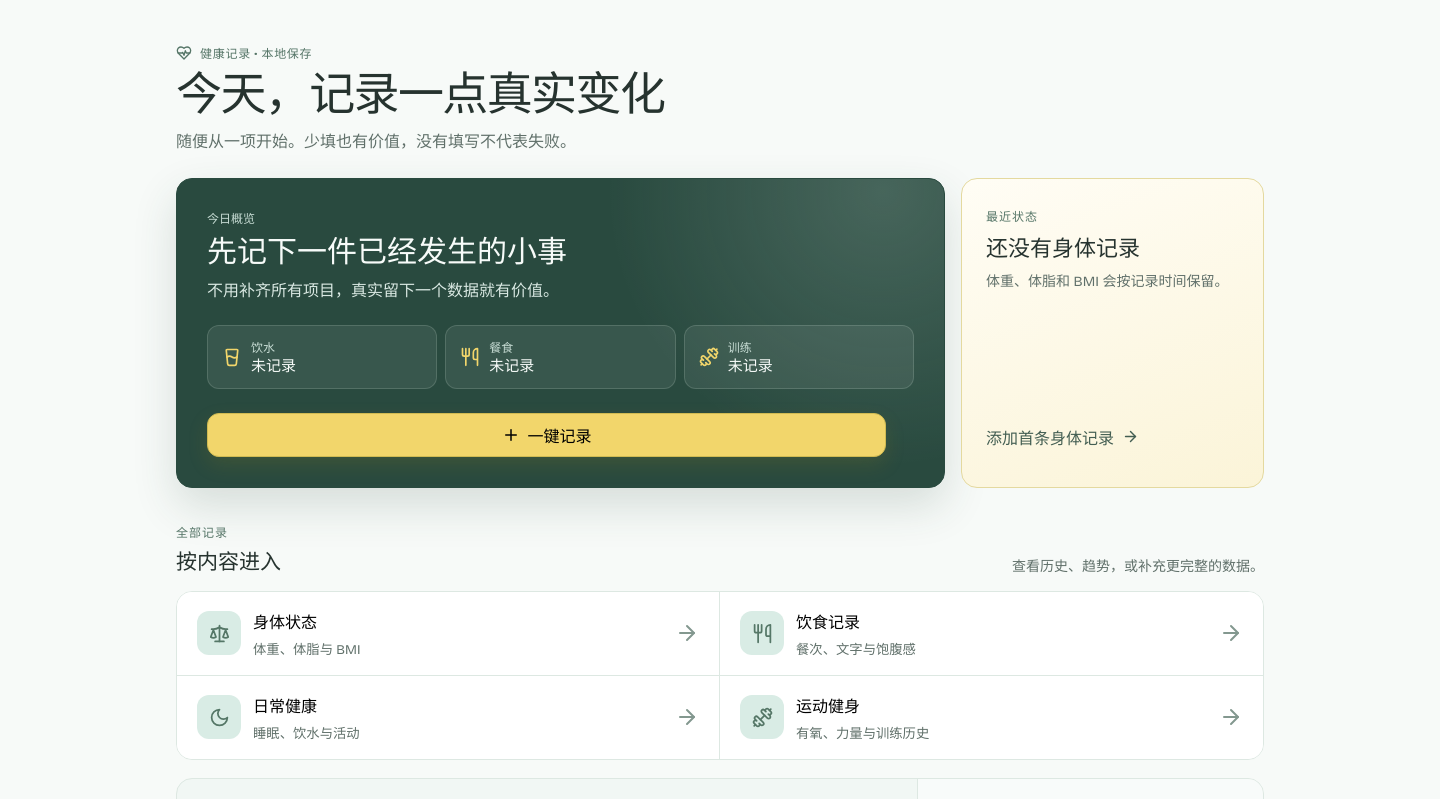
Test: health revision 2083 workspaces › adds a weighed public food from a meal-specific entry
Click the button "饮食记录 餐次、文字与饱腹感": x=762, y=633 top-left (720, 592), bottom-right (1263, 676)
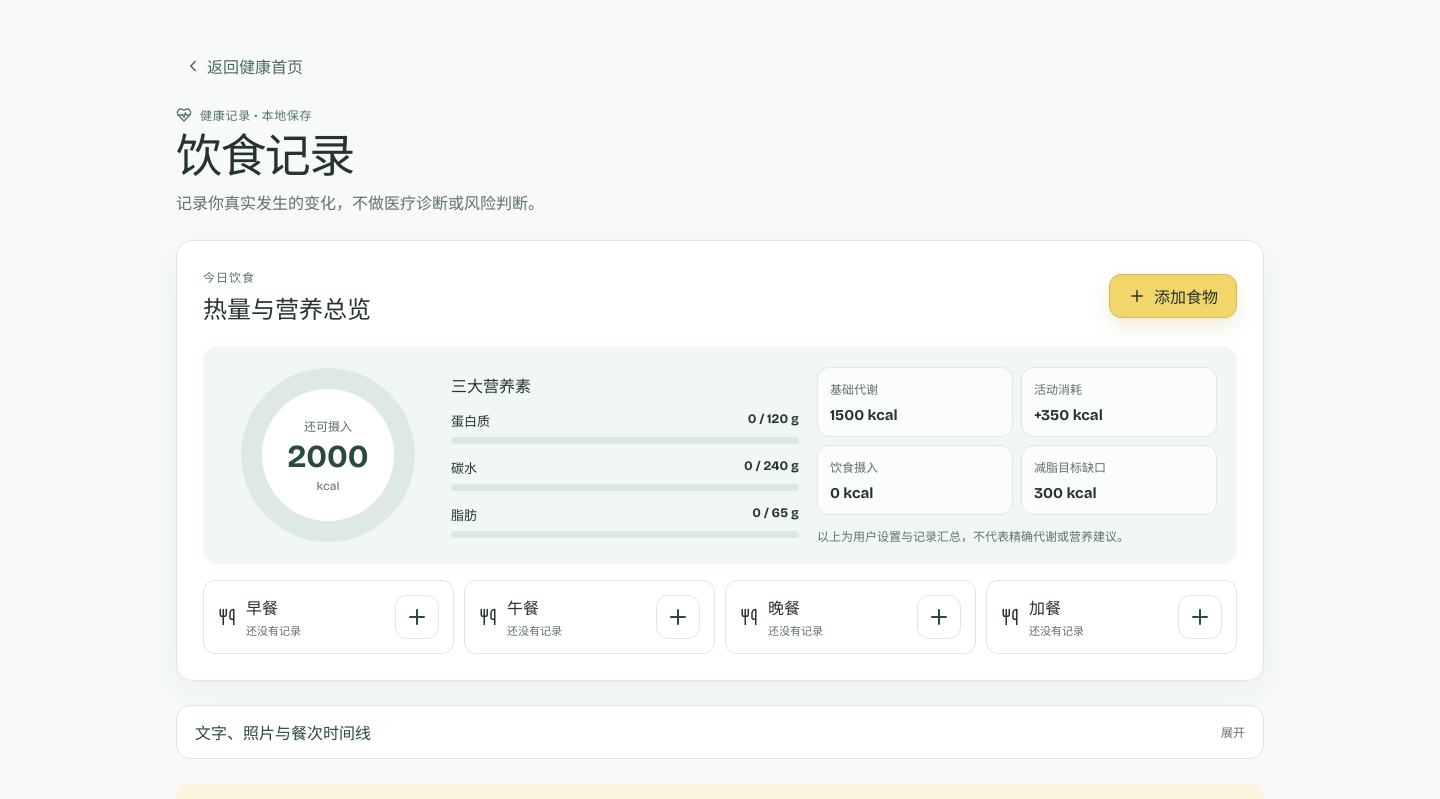
Expected: the text "还可摄入" is shown, top-left (304, 420), bottom-right (352, 434)
Click the button named "添加早餐": x=417, y=617 top-left (395, 595), bottom-right (439, 639)
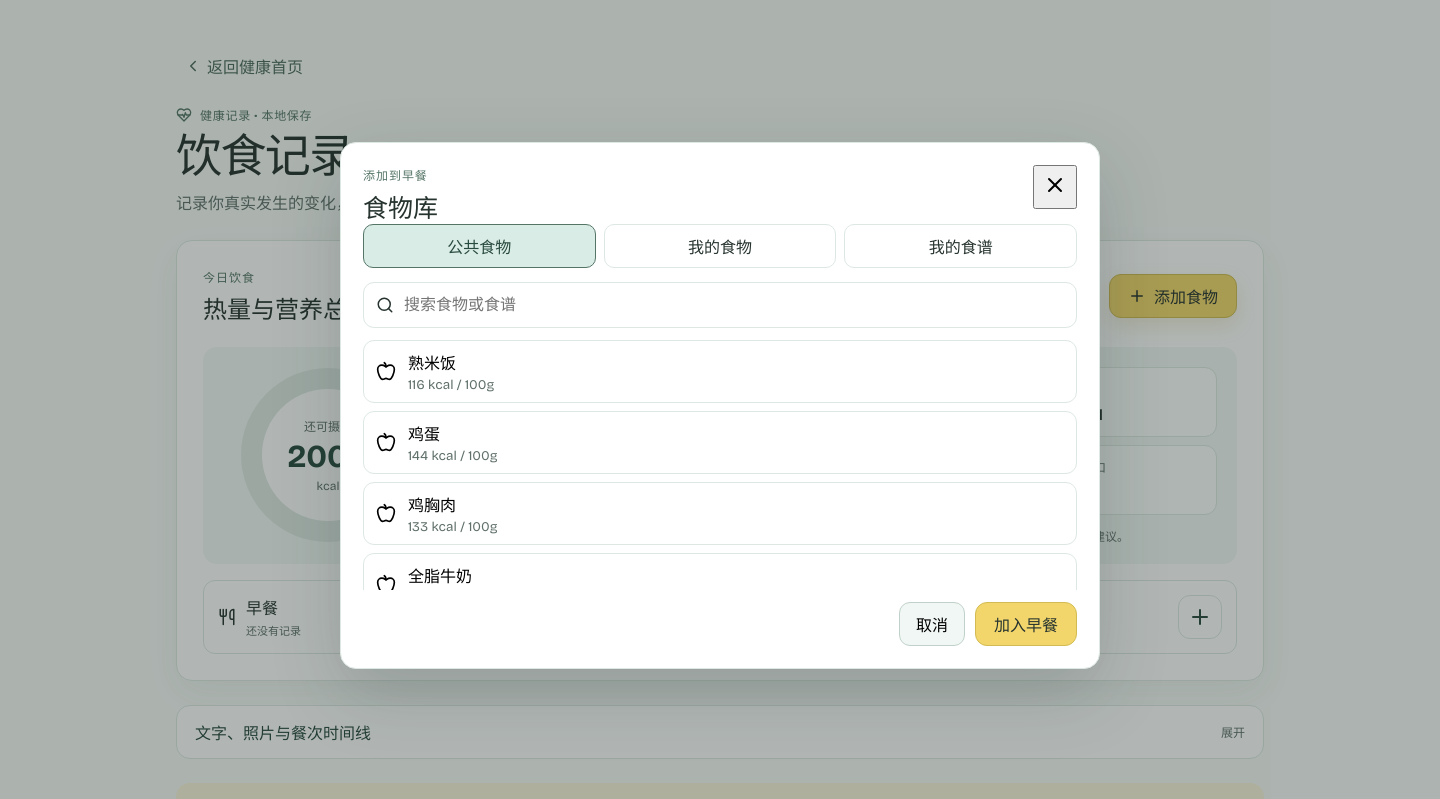
Click the button "熟米饭 116 kcal / 100g": x=432, y=363 top-left (363, 340), bottom-right (1077, 402)
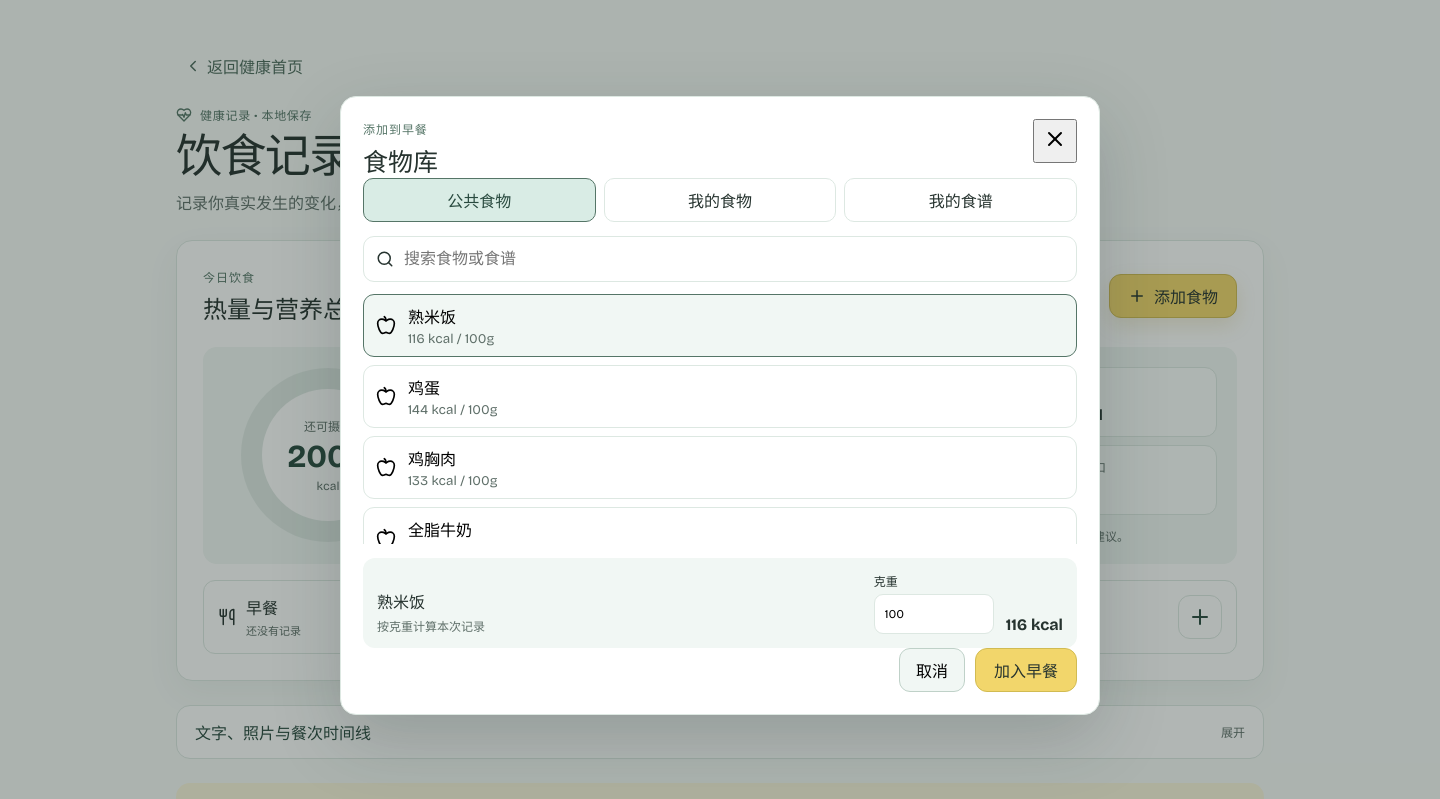
Replace the text in the number field labelled "克重" with "150": x=934, y=614 top-left (874, 594), bottom-right (994, 634)
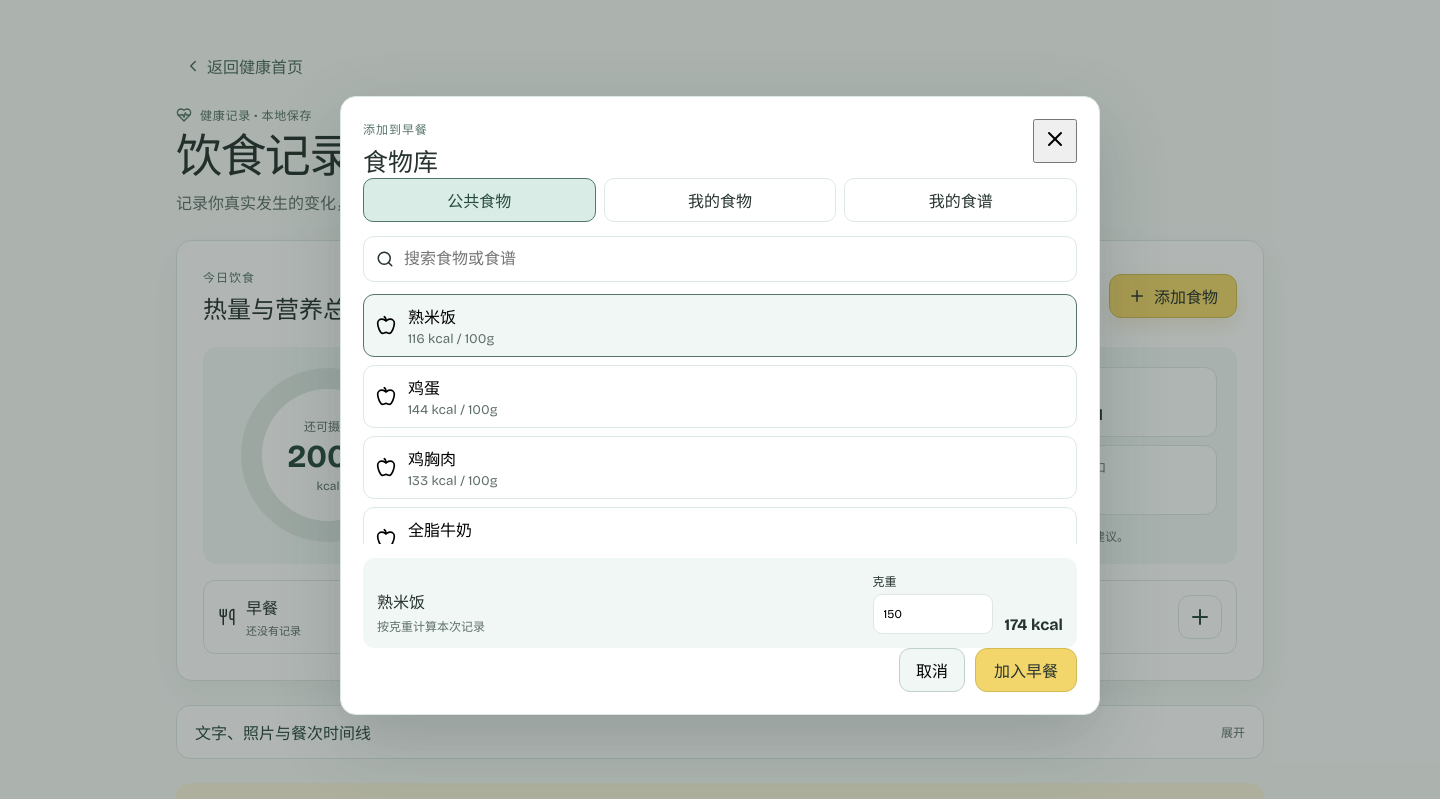
Click the button "加入早餐": x=1026, y=670 top-left (975, 648), bottom-right (1077, 692)
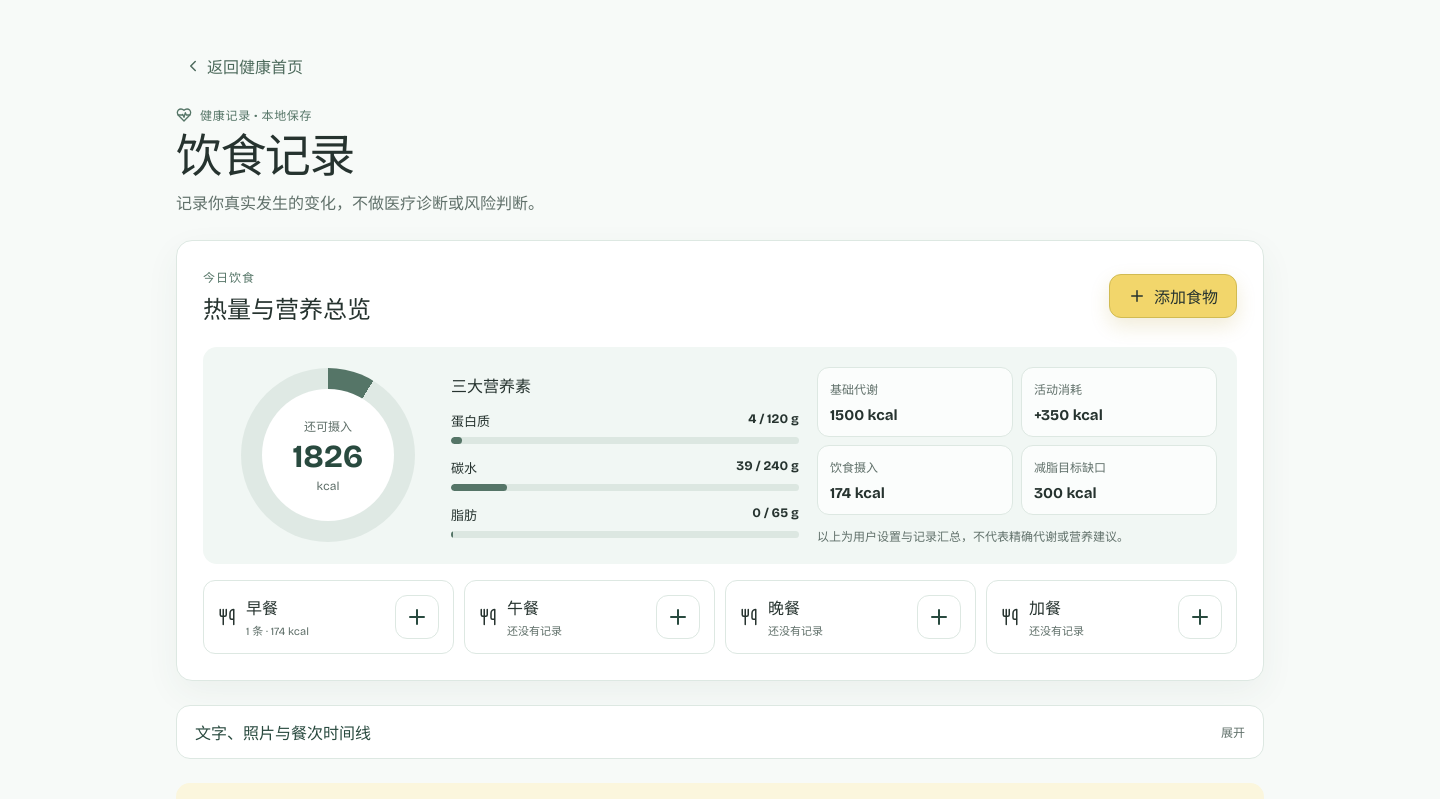
Expected: the text "1 条 · 174 kcal" is shown, top-left (246, 622), bottom-right (309, 638)
